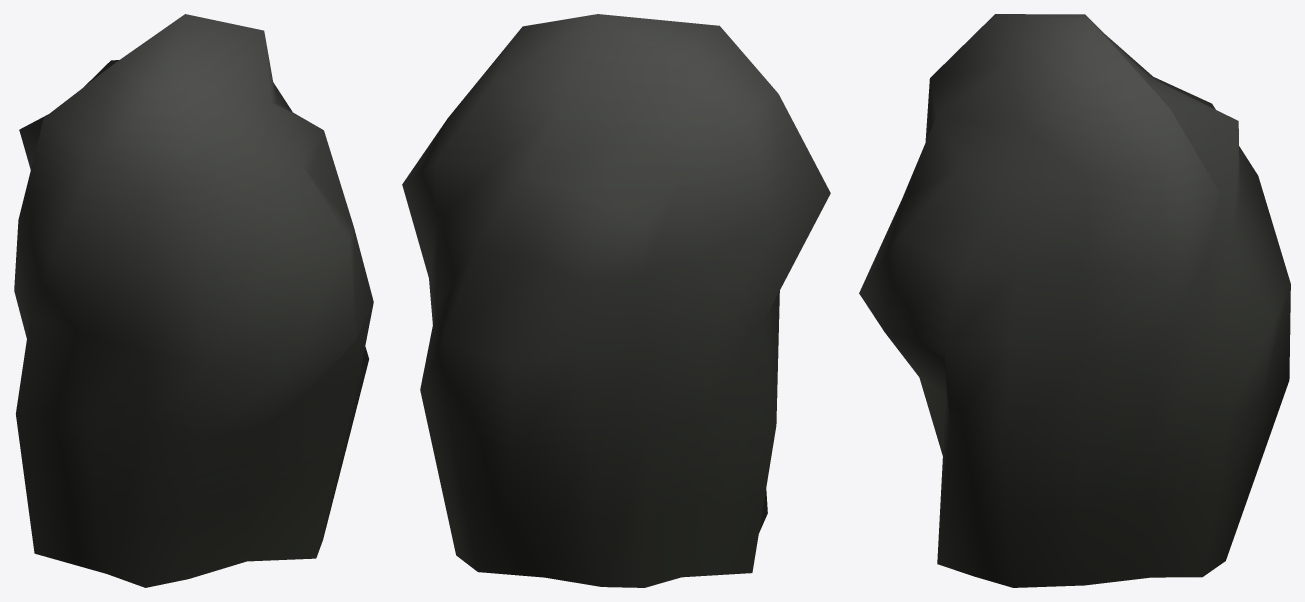
The model's file is WE02_Brush40.fbx.
3 renders of one model, left to right at view 1: azimuth 30°, elevation 25°; view 2: azimuth 150°, elevation 25°; view 3: azimuth 270°, elevation 25°, orthographic. The views are drawn at different scales.
Visible parts, largest first — view 1: WE02_Brush40; view 2: WE02_Brush40; view 3: WE02_Brush40.
Part boxes in pixels (x1,y1,x2,y2): WE02_Brush40: (14,14,373,587); WE02_Brush40: (402,14,830,587); WE02_Brush40: (859,14,1290,587).
Size of the model in its own units: 3.4 by 4.94 by 3.75.
